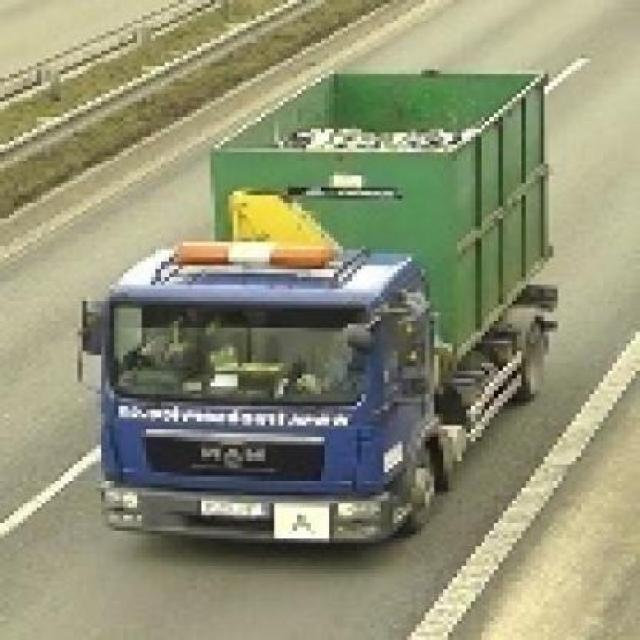truck: (74, 67, 559, 544)
